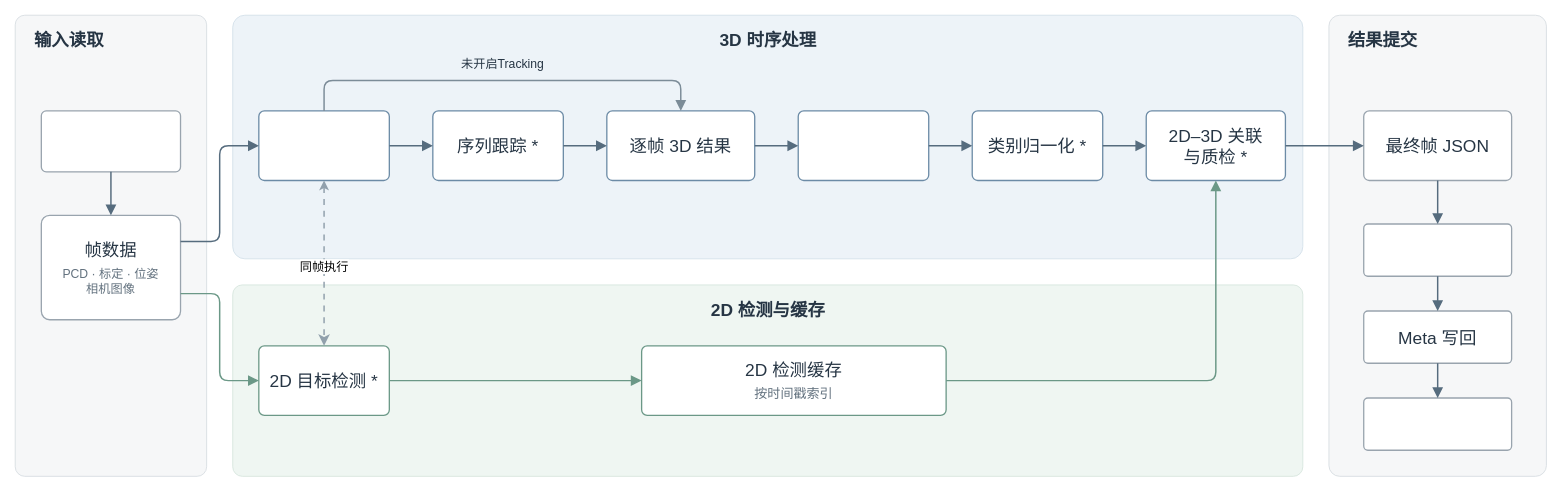
This 1562x492 diagram has some shape labels left out. Each missing label, with the box of its shape:
3D 目标检测: (258, 110, 390, 181)
Kafka 上报: (1363, 397, 1512, 450)
Meta 清单: (40, 110, 181, 172)
S3 上传: (1363, 223, 1512, 276)
动态后处理 *: (797, 110, 929, 181)
